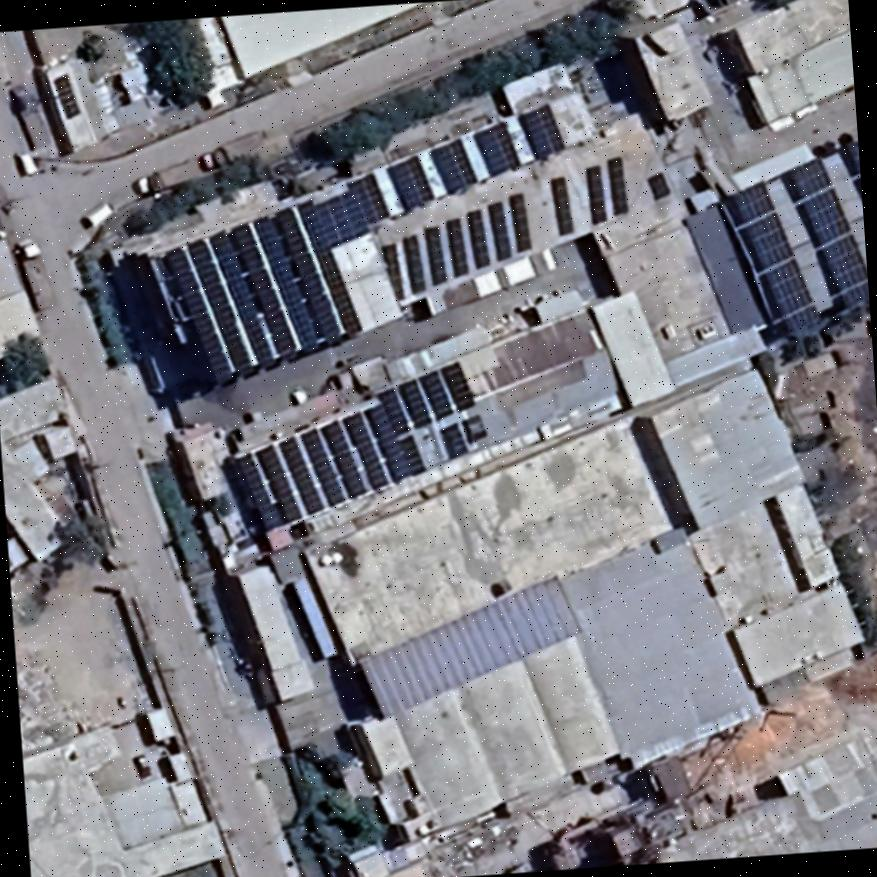Solarpanel: (223, 351, 489, 544), (152, 196, 348, 395), (372, 186, 534, 312), (718, 174, 825, 346), (292, 169, 392, 349), (779, 149, 867, 314), (422, 130, 481, 197), (378, 147, 435, 214), (465, 117, 523, 179), (580, 154, 628, 227), (516, 98, 564, 163), (543, 165, 577, 239), (832, 133, 861, 206), (45, 75, 82, 120)
